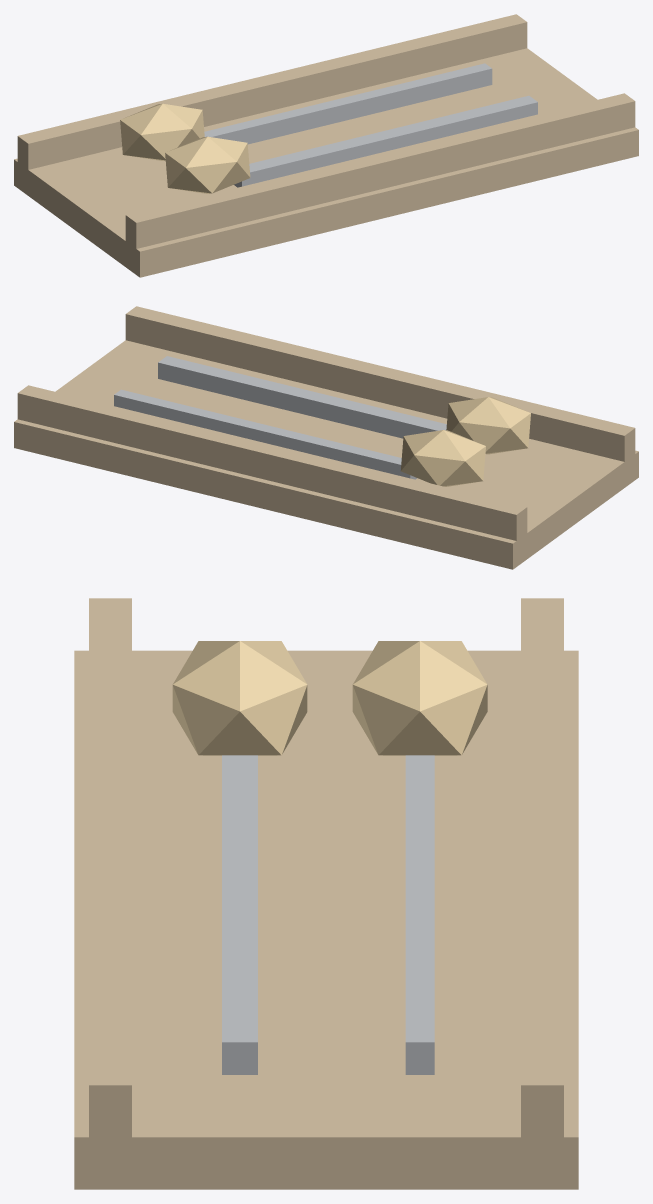
Rendered from prop-graver-set.fbx.
3 views of the same model, one above another, from view 1: azimuth 30°, elevation 25°; view 2: azimuth 150°, elevation 25°; view 3: azimuth 270°, elevation 25° (orthographic). The views are drawn at different scales.
Visible parts, largest first — view 1: prop-graver-set; view 2: prop-graver-set; view 3: prop-graver-set.
Boxes of the visible parts, x1=… form: prop-graver-set: x1=14, y1=14, x2=638, y2=277; prop-graver-set: x1=14, y1=306, x2=638, y2=569; prop-graver-set: x1=74, y1=598, x2=578, y2=1189.
Bounding box in the file's own units: 16 × 2.58 × 7.
